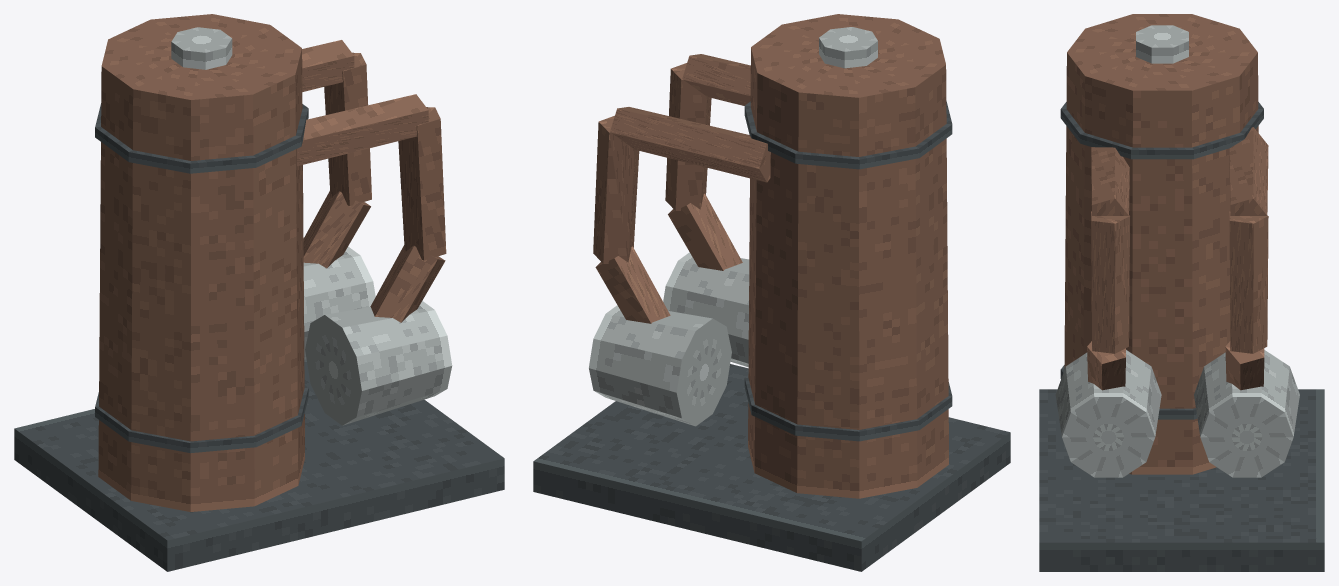
The model's file is f_exodii_pump.glb.
The picture shows the model from 3 angles, left to right: view 1: azimuth 30°, elevation 25°; view 2: azimuth 150°, elevation 25°; view 3: azimuth 270°, elevation 25°; orthographic projection. The views are drawn at different scales.
Visible parts, largest first — view 1: block_pump-receiver-shell, block_machine-base, block_pump-housing (×2), block_tank-adapter-and-return-pipe-2 (×2), block_tank-adapter-and-return-pipe-1 (×2), block_tank-adapter-and-return-pipe-3 (×2), block_pump-receiver-band-0.84, block_pump-receiver-band-0.16, block_pump-receiver-cap; view 2: block_pump-receiver-shell, block_machine-base, block_pump-housing (×2), block_tank-adapter-and-return-pipe-1 (×2), block_tank-adapter-and-return-pipe-2 (×2), block_tank-adapter-and-return-pipe-3 (×2), block_pump-receiver-band-0.84, block_pump-receiver-band-0.16, block_pump-receiver-cap; view 3: block_pump-receiver-shell, block_machine-base, block_pump-housing (×2), block_tank-adapter-and-return-pipe-2 (×2), block_tank-adapter-and-return-pipe-1 (×2), block_tank-adapter-and-return-pipe-3 (×2), block_pump-receiver-band-0.84, block_pump-receiver-cap, block_pump-receiver-band-0.16.
Part boxes in pixels (<box>): block_pump-receiver-shell: <box>98,14,304,511</box>; block_machine-base: <box>14,359,504,571</box>; block_pump-housing (×2): <box>303,246,452,425</box>; block_tank-adapter-and-return-pipe-2 (×2): <box>324,52,446,260</box>; block_tank-adapter-and-return-pipe-1 (×2): <box>297,40,428,166</box>; block_tank-adapter-and-return-pipe-3 (×2): <box>303,191,445,322</box>; block_pump-receiver-band-0.84: <box>95,103,308,173</box>; block_pump-receiver-band-0.16: <box>95,385,308,453</box>; block_pump-receiver-cap: <box>171,27,232,69</box>; block_pump-receiver-shell: <box>748,14,948,498</box>; block_machine-base: <box>533,364,1010,571</box>; block_pump-housing (×2): <box>589,252,749,426</box>; block_tank-adapter-and-return-pipe-1 (×2): <box>610,54,770,182</box>; block_tank-adapter-and-return-pipe-2 (×2): <box>593,63,711,263</box>; block_tank-adapter-and-return-pipe-3 (×2): <box>595,193,742,323</box>; block_pump-receiver-band-0.84: <box>744,101,952,169</box>; block_pump-receiver-band-0.16: <box>744,375,952,441</box>; block_pump-receiver-cap: <box>819,27,877,68</box>; block_pump-receiver-shell: <box>1064,14,1258,474</box>; block_machine-base: <box>1039,389,1324,571</box>; block_pump-housing (×2): <box>1055,350,1299,477</box>; block_tank-adapter-and-return-pipe-2 (×2): <box>1091,211,1268,353</box>; block_tank-adapter-and-return-pipe-1 (×2): <box>1091,127,1268,215</box>; block_tank-adapter-and-return-pipe-3 (×2): <box>1087,341,1264,390</box>; block_pump-receiver-band-0.84: <box>1060,102,1263,159</box>; block_pump-receiver-cap: <box>1136,25,1188,63</box>; block_pump-receiver-band-0.16: <box>1060,365,1197,419</box>.
Bounding box in the file's own units: 0.91 × 1.18 × 0.716.
1 material, 1 textured.
